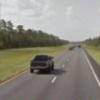cars: (30, 54, 54, 73)
